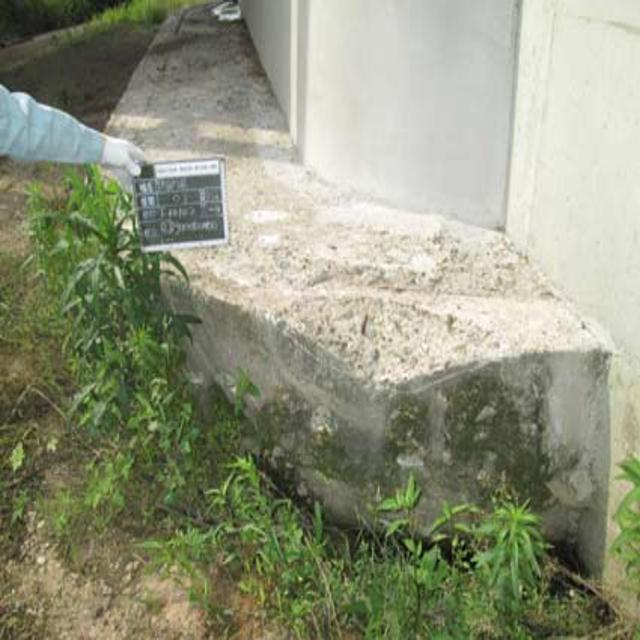spalling: (274, 268, 506, 406)
